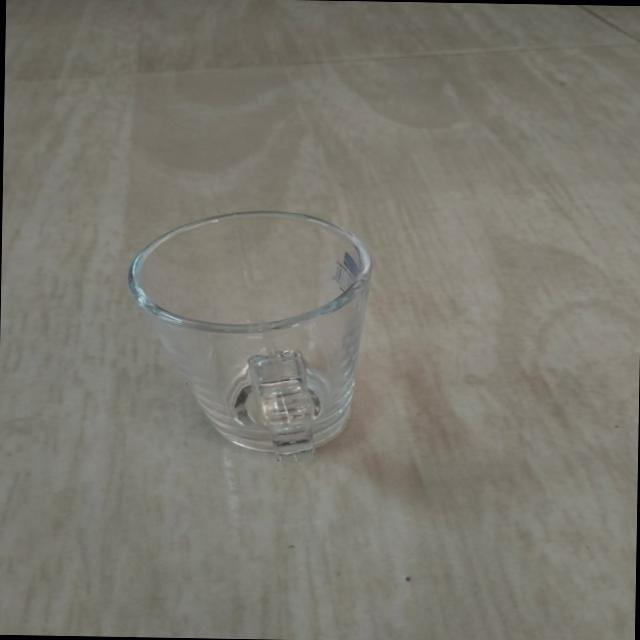glass-VX4N: (127, 206, 373, 456)
